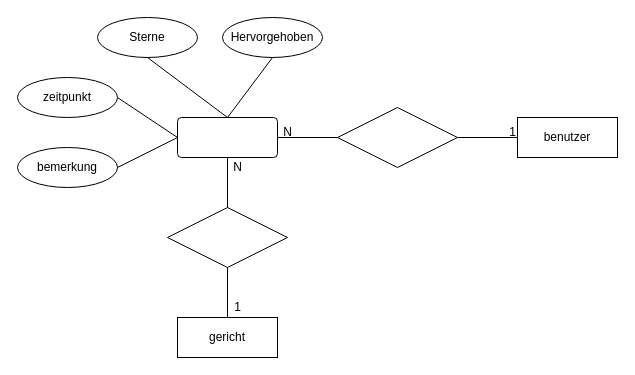
Image size: 635x375. Some labels were removed from this diagram. Each missing label, with the centre of its shape:
Bewertung: point (227, 137)
erstellt von: point (397, 137)
fuer: point (227, 237)
